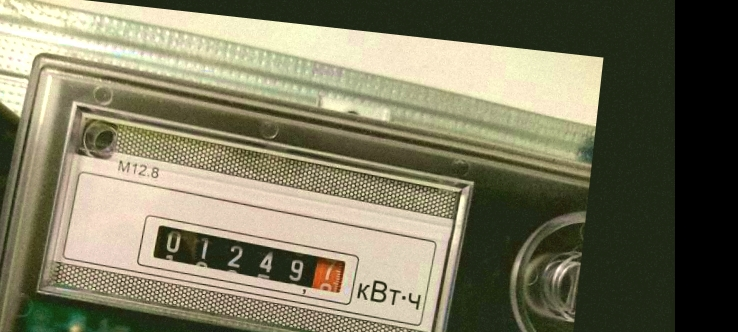0: (163, 227, 183, 254)
1: (195, 233, 212, 261)
2: (224, 242, 244, 270)
4: (257, 247, 275, 274)
7: (320, 255, 338, 283)
9: (285, 255, 305, 283)
screen: (133, 212, 363, 309)
